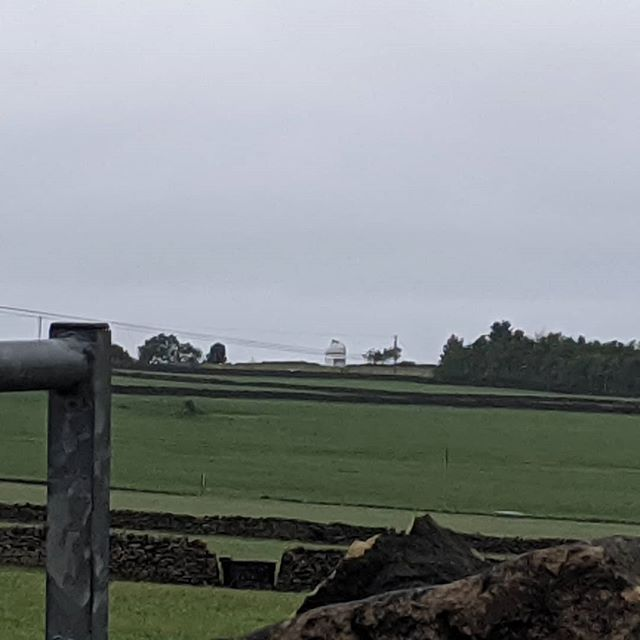grass: (113, 379, 640, 516)
rocks: (236, 502, 640, 640)
sky: (1, 1, 640, 331)
vegetation: (443, 334, 626, 405)
